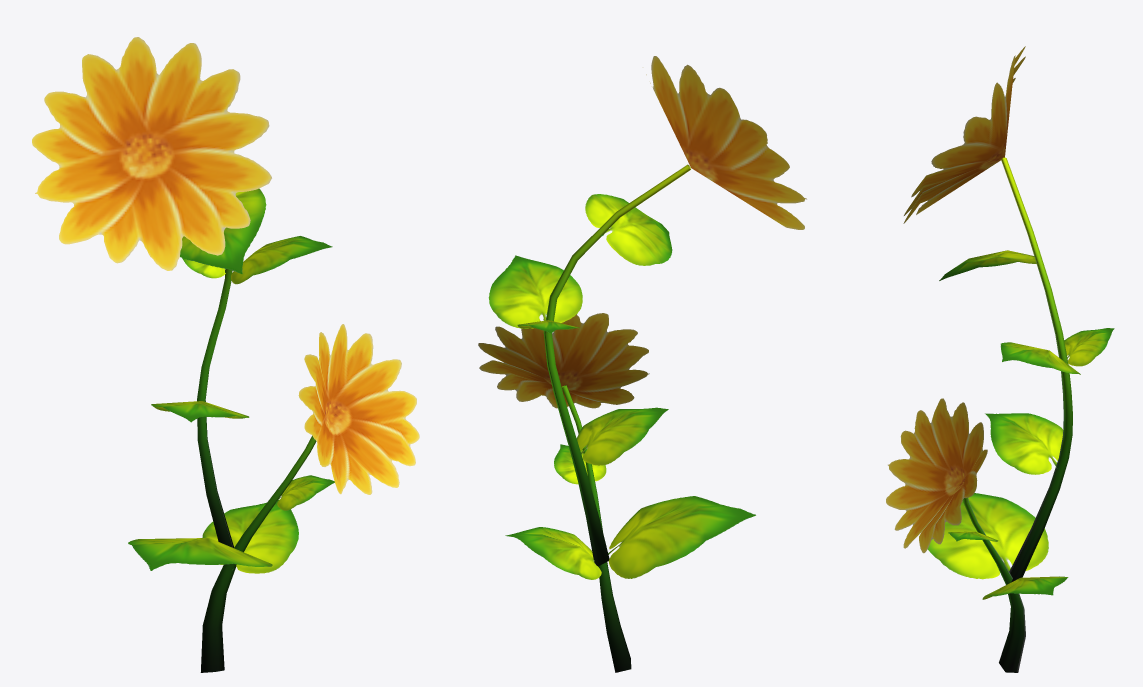
Rendered from Flower01_Dream.glb.
The picture shows the model from 3 angles, left to right: view 1: azimuth 30°, elevation 25°; view 2: azimuth 150°, elevation 25°; view 3: azimuth 270°, elevation 25°; orthographic projection. The views are drawn at different scales.
Visible parts, largest first — view 1: Flower01_dream; view 2: Flower01_dream; view 3: Flower01_dream.
Boxes of the visible parts, x1,y1,x2,y2 form: Flower01_dream: (32, 37, 419, 672); Flower01_dream: (478, 56, 806, 672); Flower01_dream: (886, 46, 1114, 672).
Bounding box in the file's own units: 0.7016 × 1.16 × 0.4637.
Materials: 1 (1 with a texture image).
